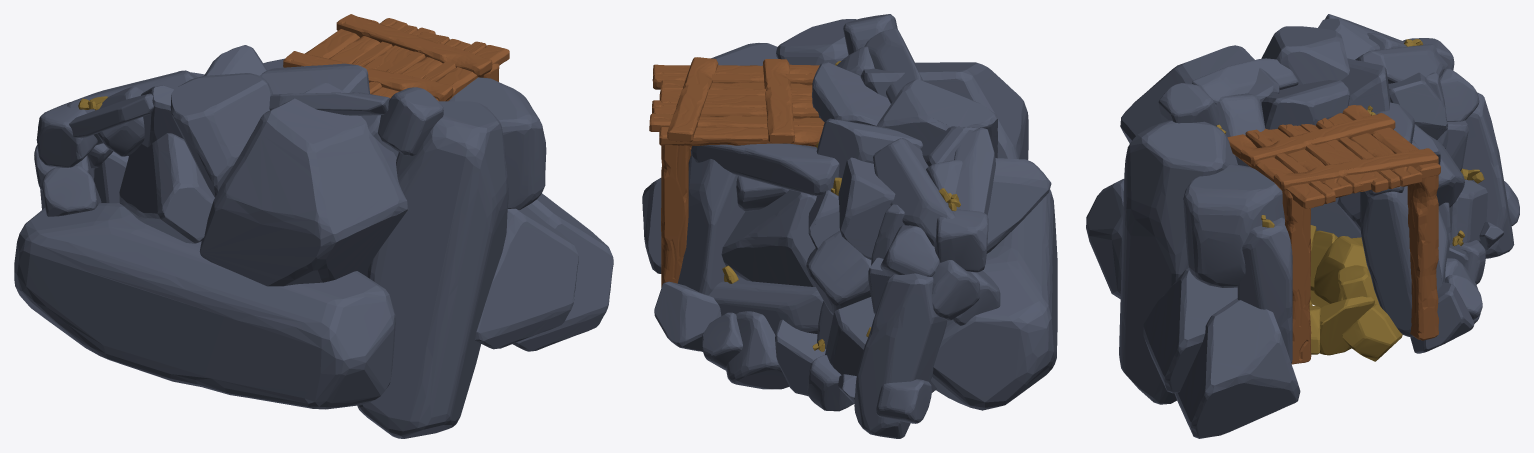
File: GoldMine.fbx
3 views of the same model, side by side, from view 1: azimuth 30°, elevation 25°; view 2: azimuth 150°, elevation 25°; view 3: azimuth 270°, elevation 25° (orthographic). The views are drawn at different scales.
Parts seen in each view (by area): view 1: Cube.056, Cube.040, Cube.057, Cube.051, Cube.048, Cube.061, Cube.037, Cube.036, Cube.050, Cube.032, Cube.038, Cube.041 (+14 smaller); view 2: Cube.056, Cube.012, Cube.015, Cube.016, Cube.057, Cube.014, Cube.048, Cube.035, Cube.006, Cube.020, Cube.061, Cube.005 (+39 smaller); view 3: Cube.040, Cube.036, Cube.037, Cube.051, Cube.016, Cube.002, Cube.005, Cube.071, Cube.056, Cube.057, Cube.012, Cube.048 (+37 smaller).
Boxes of the visible parts, <box> form: Cube.056: <box>14,203,395,409</box>; Cube.040: <box>357,101,508,438</box>; Cube.057: <box>199,83,408,286</box>; Cube.051: <box>475,206,578,349</box>; Cube.048: <box>170,73,272,197</box>; Cube.061: <box>119,133,214,243</box>; Cube.037: <box>448,77,546,209</box>; Cube.036: <box>512,193,613,351</box>; Cube.050: <box>378,87,443,156</box>; Cube.032: <box>336,14,492,77</box>; Cube.038: <box>36,102,97,167</box>; Cube.041: <box>260,63,369,94</box>; Cube.056: <box>930,189,1057,410</box>; Cube.012: <box>854,273,947,438</box>; Cube.015: <box>721,190,816,286</box>; Cube.016: <box>677,155,745,295</box>; Cube.057: <box>860,62,1028,159</box>; Cube.014: <box>690,143,839,195</box>; Cube.048: <box>876,79,997,158</box>; Cube.035: <box>873,138,955,246</box>; Cube.006: <box>709,276,823,334</box>; Cube.020: <box>838,157,895,259</box>; Cube.061: <box>986,158,1051,253</box>; Cube.005: <box>661,145,688,287</box>; Cube.040: <box>1119,120,1237,404</box>; Cube.036: <box>1174,298,1300,438</box>; Cube.037: <box>1183,164,1284,287</box>; Cube.051: <box>1143,268,1237,393</box>; Cube.016: <box>1360,186,1442,337</box>; Cube.002: <box>1237,217,1292,363</box>; Cube.005: <box>1407,175,1438,340</box>; Cube.071: <box>1309,296,1402,361</box>; Cube.056: <box>1086,179,1361,299</box>; Cube.057: <box>1120,45,1279,143</box>; Cube.012: <box>1462,92,1514,258</box>; Cube.048: <box>1261,26,1349,85</box>.
Size of the model in its own units: 1257 by 804 by 1017.
